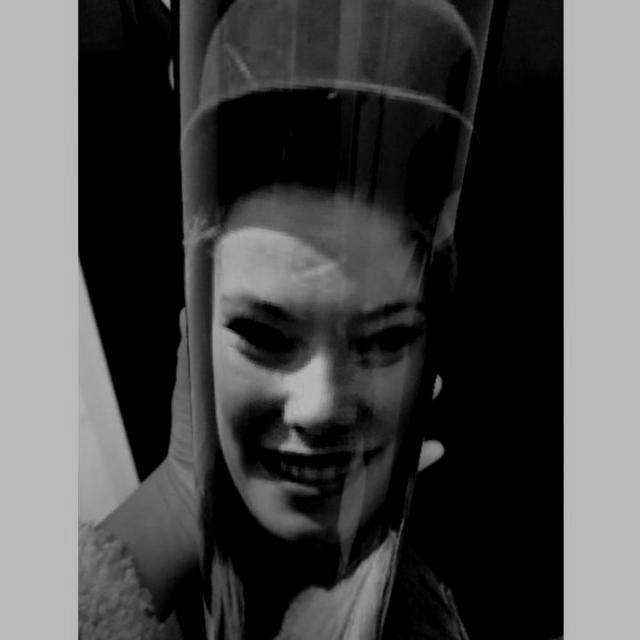fake: (164, 0, 504, 640)
